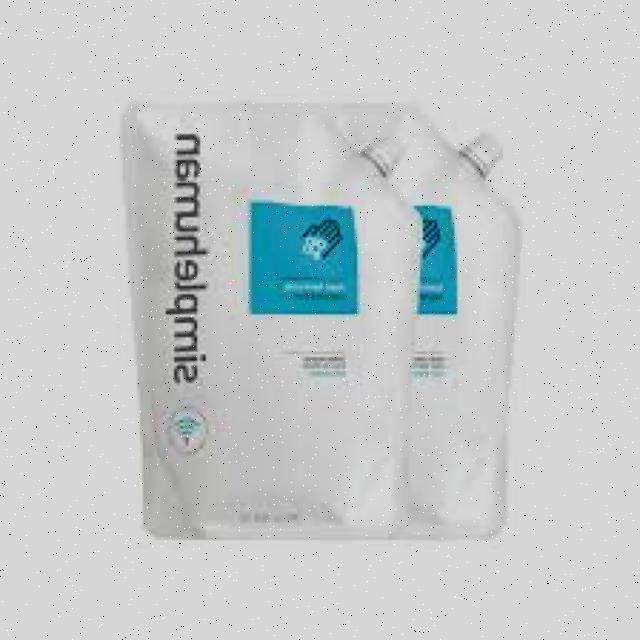liquid soap: (132, 102, 417, 541), (328, 110, 520, 545)
